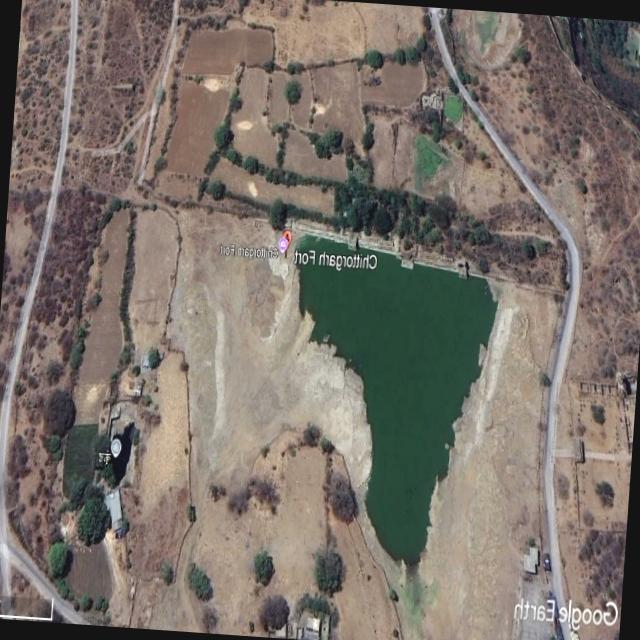objects-ruins-artifacts: (298, 88, 600, 394), (2, 319, 264, 592)
